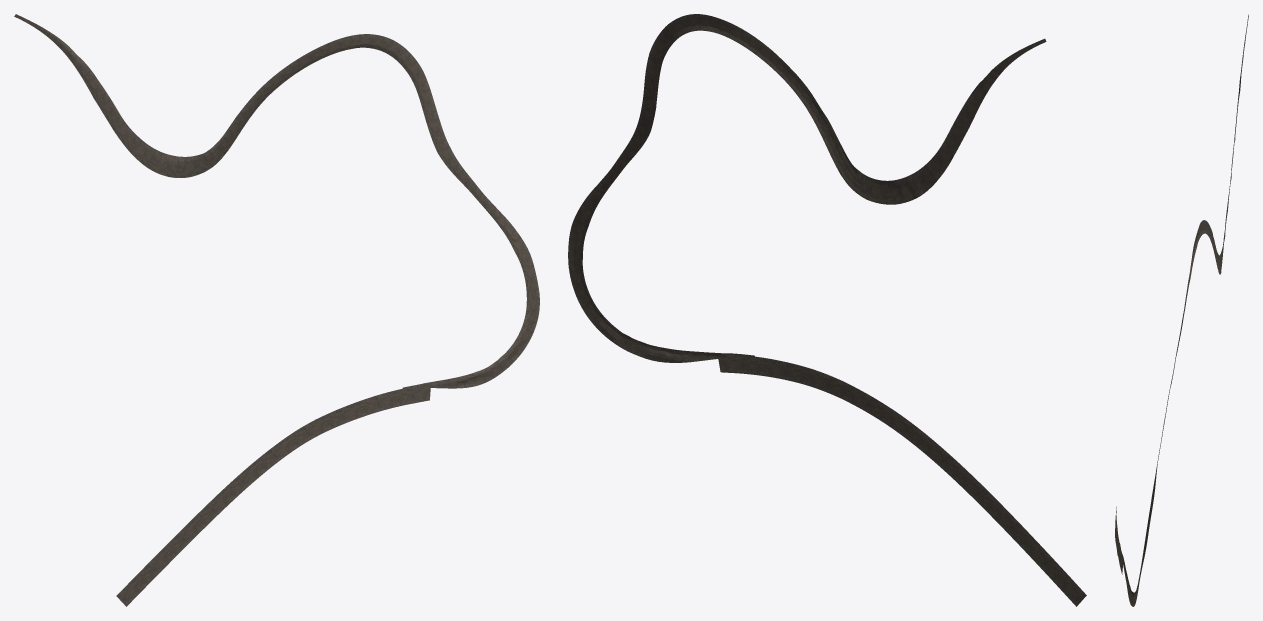
3 views of the same model, side by side, from view 1: azimuth 30°, elevation 25°; view 2: azimuth 150°, elevation 25°; view 3: azimuth 270°, elevation 25° (orthographic). The views are drawn at different scales.
Size of the model in its own units: 134 by 151 by 35.03.
1 material, 1 textured.
